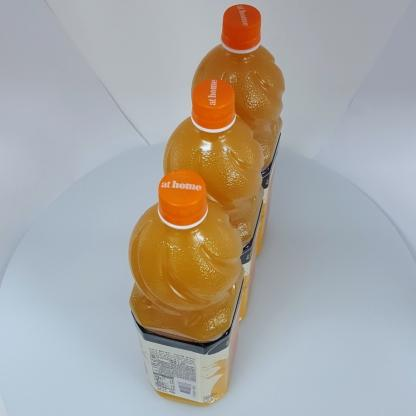-------1-5L: (128, 169, 244, 407)
